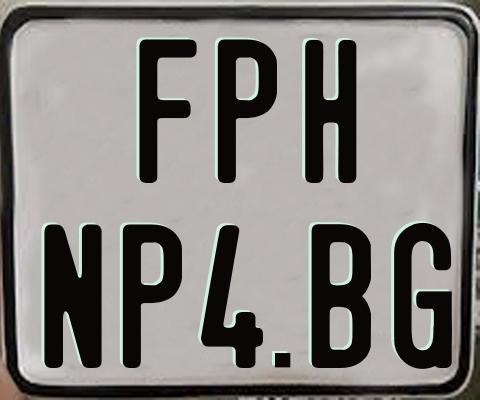4: (201, 223, 268, 372)
B: (311, 224, 372, 368)
F: (136, 39, 194, 185)
G: (394, 221, 457, 371)
H: (302, 37, 354, 181)
N: (43, 223, 104, 368)
P: (216, 36, 278, 186), (121, 222, 183, 370)
